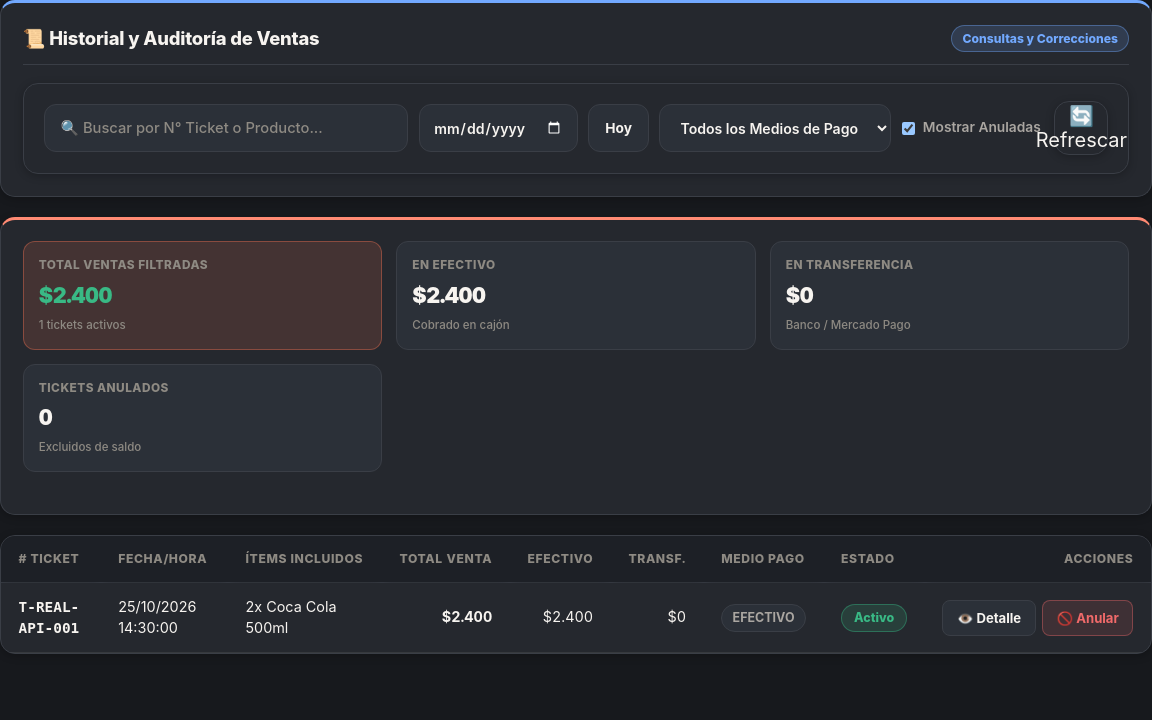
GenaroPOS — Módulo de Historial y Auditoría de Ventas (Frontend / IndexedDB) › 12. En modo conectado (RealApiClient), obtenerDetalleVenta, editarItemVenta y anularVenta normalizan producto_nombre y precio_unitario sin errores en UI
Click the button with test id "btn-view-ticket-T-REAL-API-001" at (989, 618), box [942,600,1036,636]
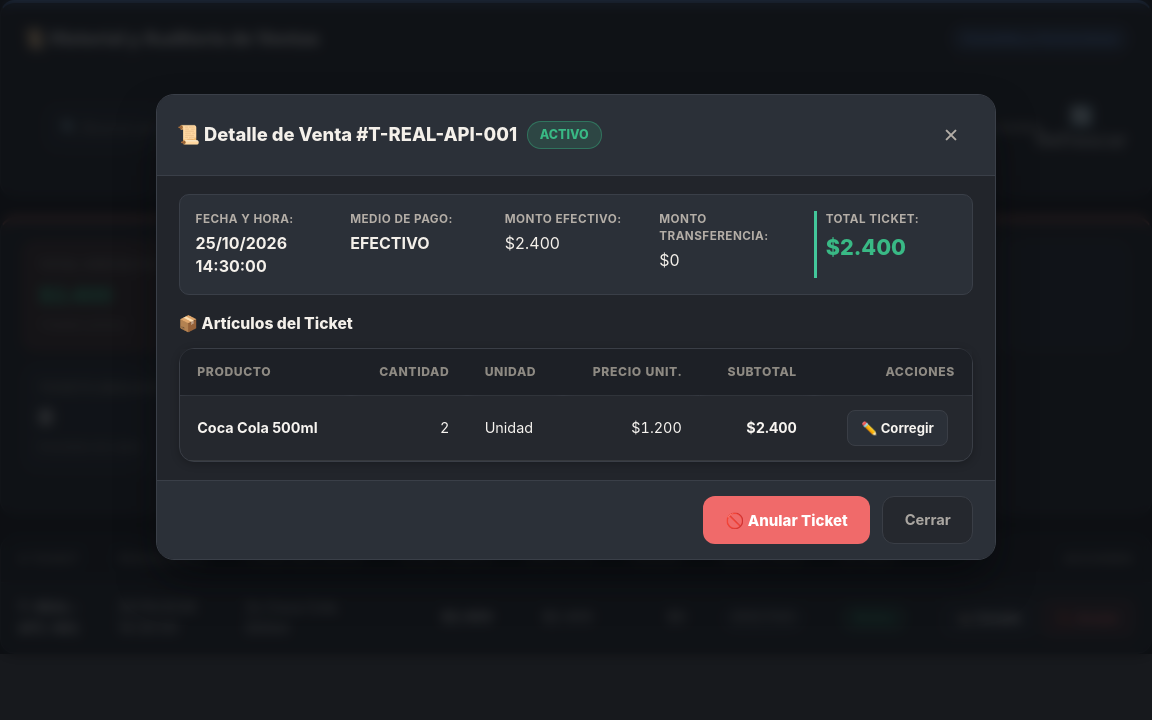
Check: the element with test id "modal-ticket-detail" is shown
Check: the text "Coca Cola 500ml" is shown, box [197,419,318,436]
Check: the text with test id "detail-ticket-total" reads "$2.400", box [826,234,906,260]
Note: Probar edición de ítem en modo conectado
Click the button with test id "btn-edit-item-0" at (898, 428), box [847,410,948,446]
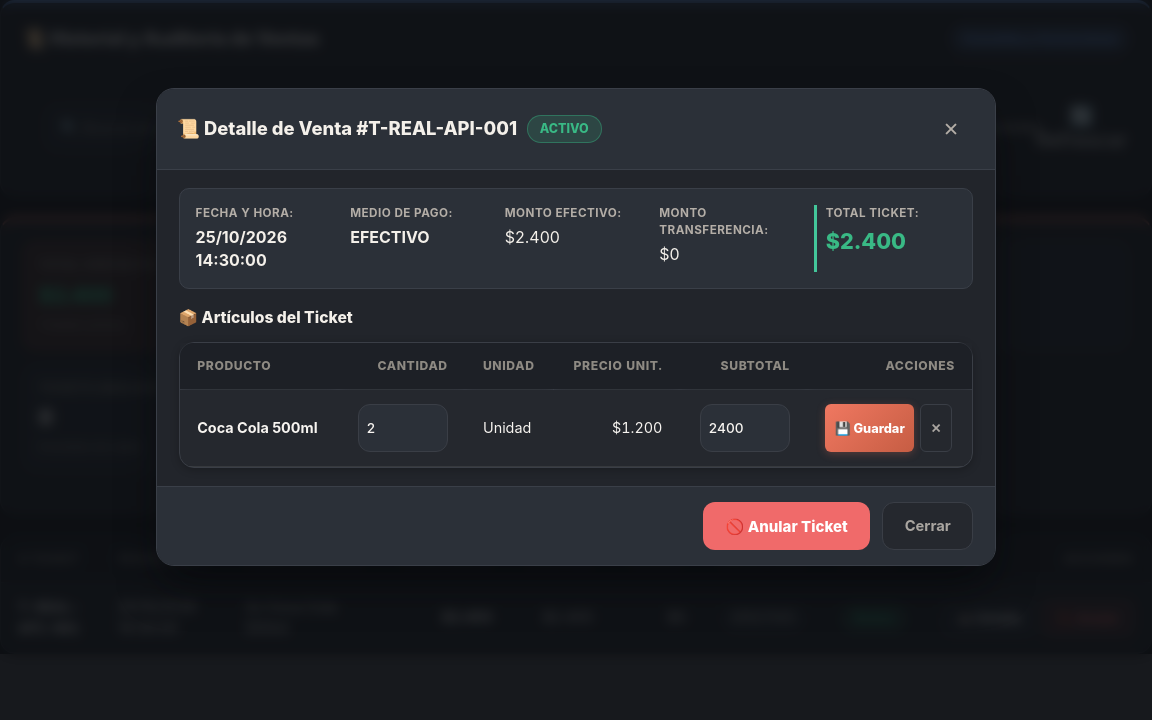
Replace the text in the number field with test id "input-edit-item-qty-0" with "3" at (403, 428), box [358,404,448,452]
Click the button with test id "btn-save-item-edit" at (870, 428), box [825,404,914,452]
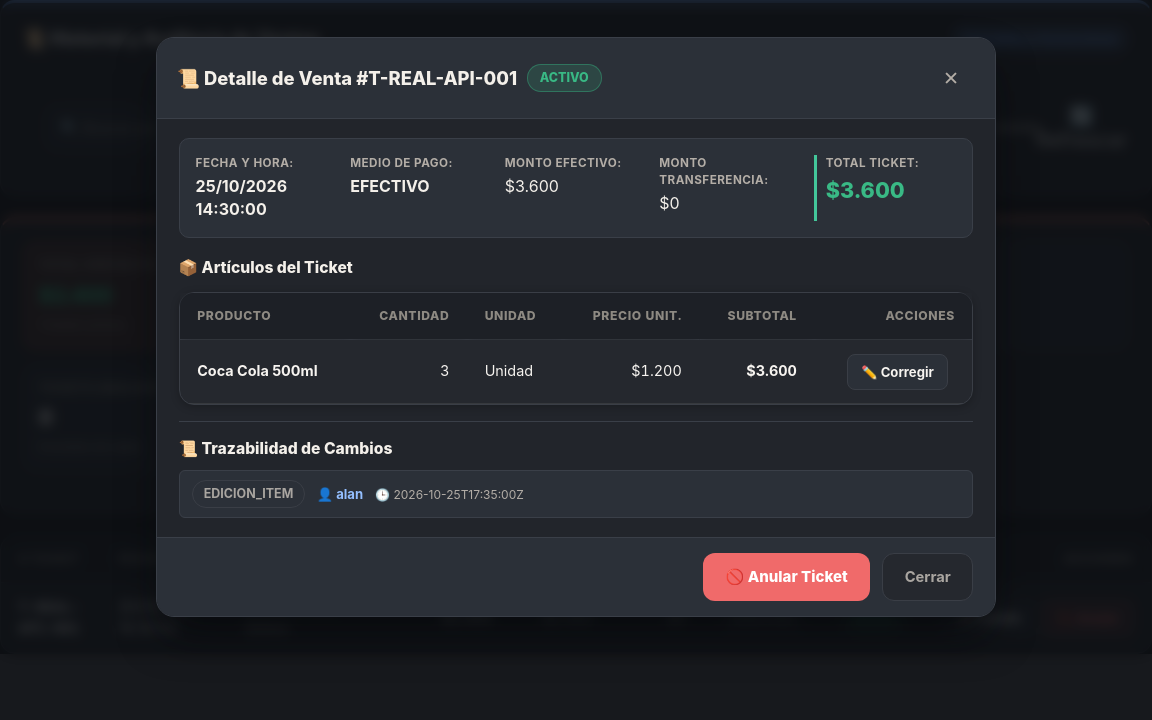
Check: the text with test id "detail-ticket-total" reads "$3.600", box [826,177,905,203]
Note: Probar anulación desde el detalle en modo conectado
Click the button with test id "btn-open-cancel-ticket" at (787, 577), box [703,553,870,601]
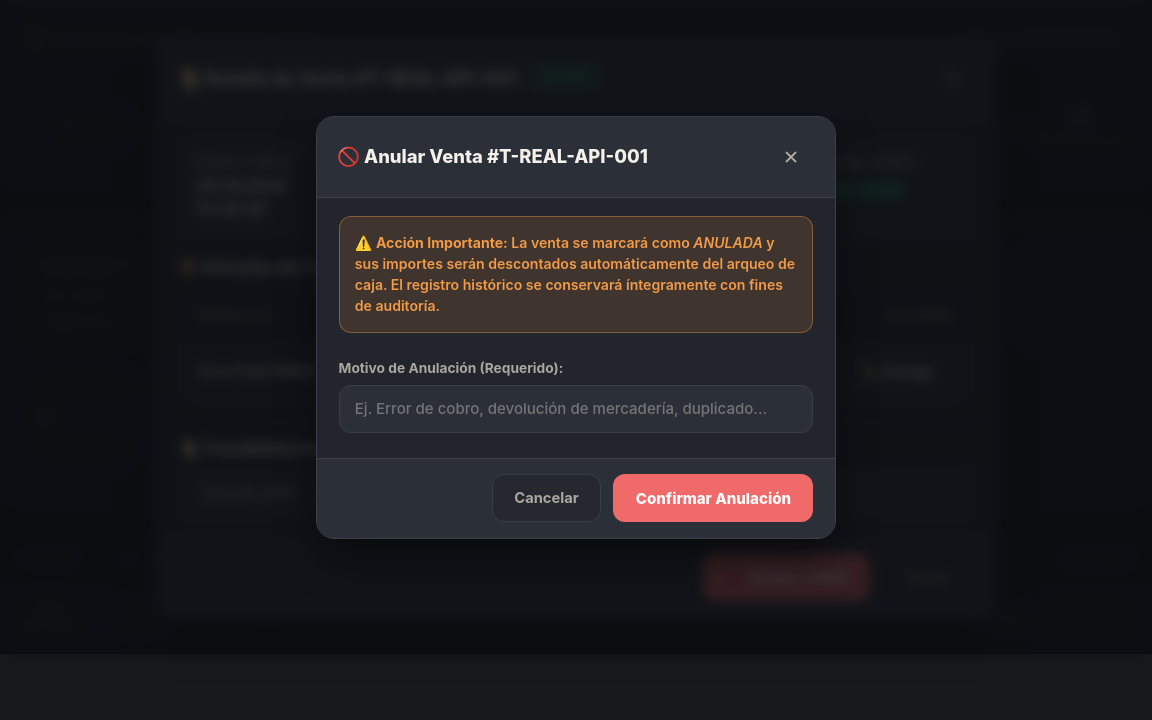
Type "Error de cobro en modo real" into the field with test id "input-cancel-sale-reason" at (576, 409), box [339,385,813,433]
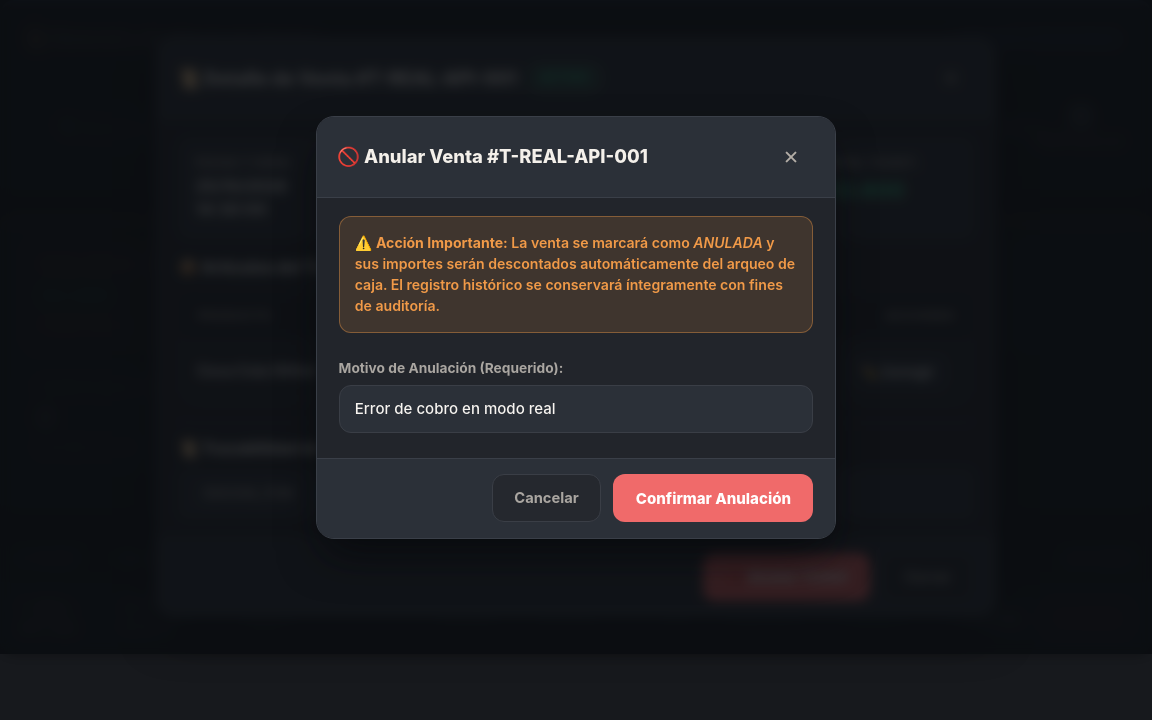
Click the button with test id "btn-confirm-cancel-sale" at (713, 498), box [613,474,813,522]
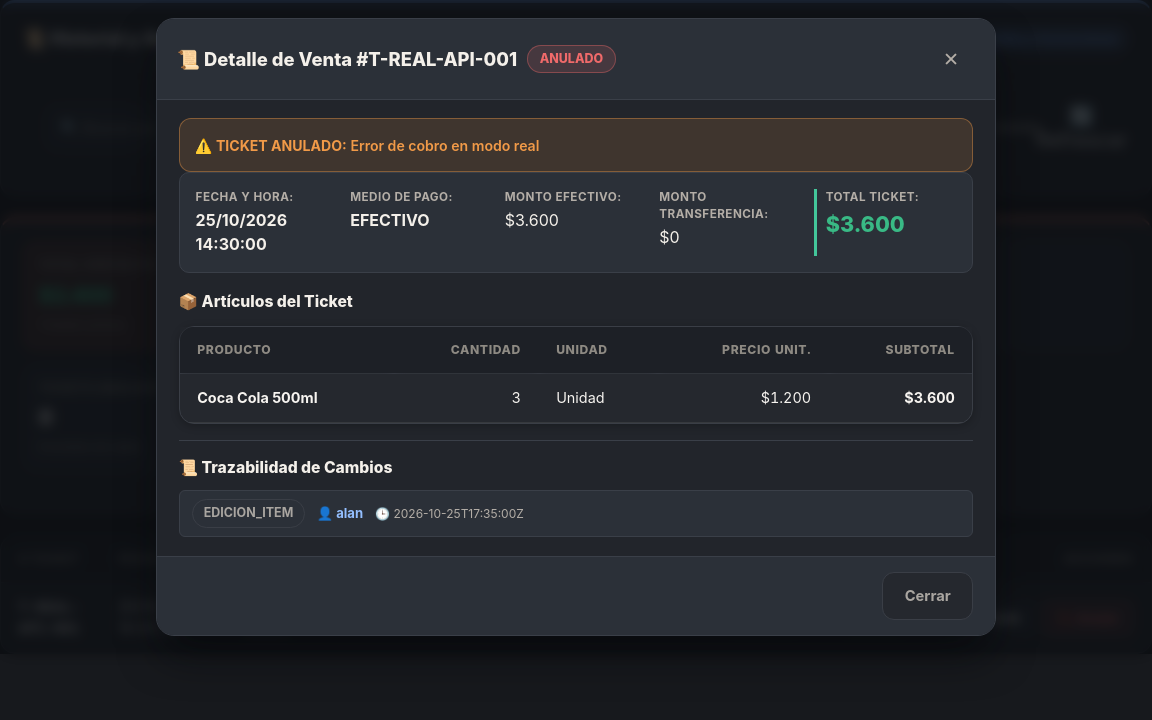
Check: the element with test id "ticket-cancelled-banner" shows "Error de cobro en modo real", box [350,137,539,154]
